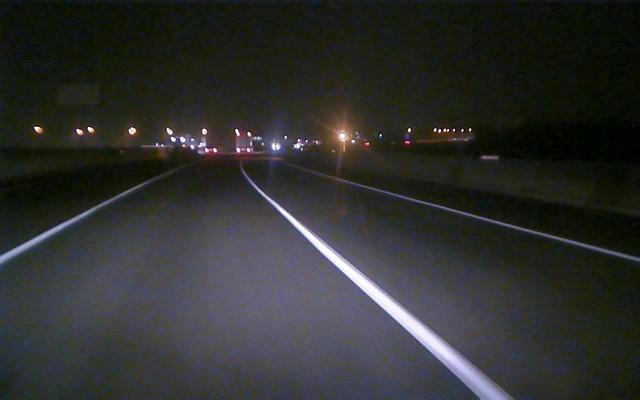lane: (252, 184, 513, 399), (340, 178, 640, 263), (2, 180, 150, 262)
